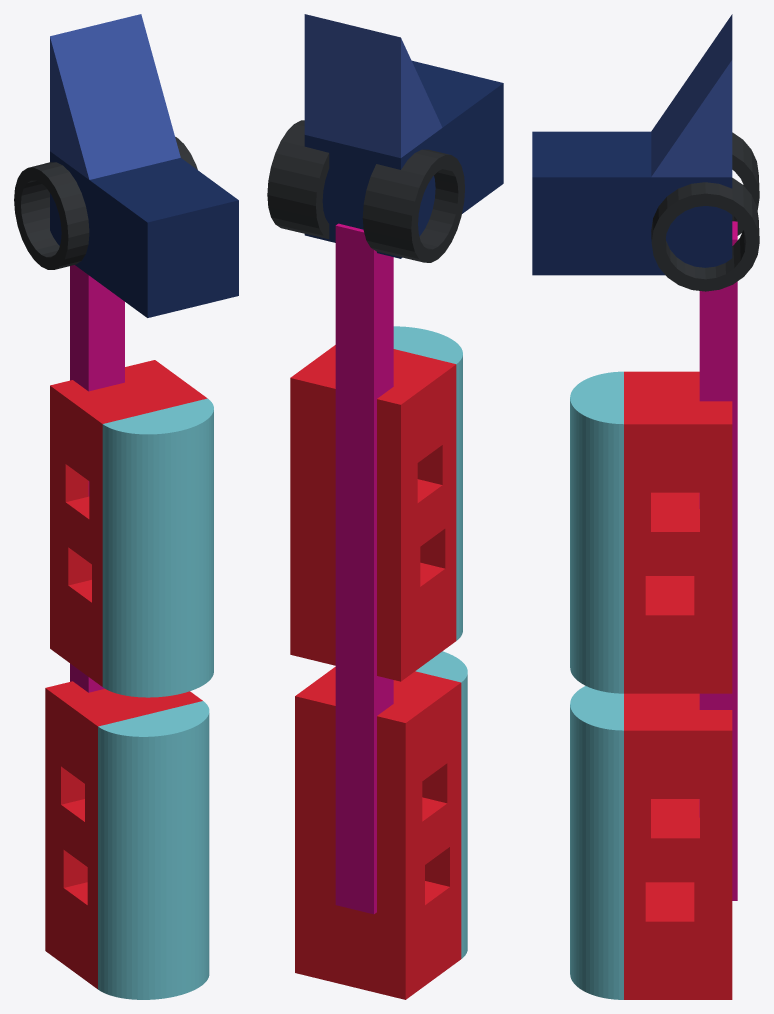
Rendered from tinker.obj.
The picture shows the model from 3 angles, left to right: view 1: azimuth 30°, elevation 25°; view 2: azimuth 150°, elevation 25°; view 3: azimuth 270°, elevation 25°; orthographic projection. The views are drawn at different scales.
Visible parts, largest first — view 1: group_0_7720667, group_0_15277357, group_0_1650274, group_0_3888547, group_0_2829873, group_0_14093196; view 2: group_0_15277357, group_0_14093196, group_0_3888547, group_0_2829873, group_0_1650274, group_0_7720667; view 3: group_0_15277357, group_0_7720667, group_0_1650274, group_0_3888547, group_0_14093196, group_0_2829873.
Part boxes in pixels (left/top/right/bottom): group_0_7720667: left=98, top=398, right=213, bottom=999; group_0_15277357: left=45, top=360, right=207, bottom=989; group_0_1650274: left=50, top=151, right=238, bottom=317; group_0_3888547: left=50, top=14, right=180, bottom=179; group_0_2829873: left=14, top=136, right=197, bottom=269; group_0_14093196: left=70, top=265, right=124, bottom=692; group_0_15277357: left=290, top=345, right=461, bottom=999; group_0_14093196: left=335, top=223, right=393, bottom=914; group_0_3888547: left=304, top=14, right=442, bottom=158; group_0_2829873: left=267, top=120, right=464, bottom=262; group_0_1650274: left=304, top=60, right=503, bottom=258; group_0_7720667: left=393, top=326, right=467, bottom=958; group_0_15277357: left=624, top=371, right=732, bottom=999; group_0_7720667: left=570, top=371, right=623, bottom=999; group_0_1650274: left=532, top=131, right=732, bottom=275; group_0_3888547: left=651, top=14, right=732, bottom=177; group_0_14093196: left=699, top=221, right=737, bottom=900; group_0_2829873: left=651, top=132, right=759, bottom=291.
Bounding box in the file's own units: 30.17 × 191 × 42.09.
